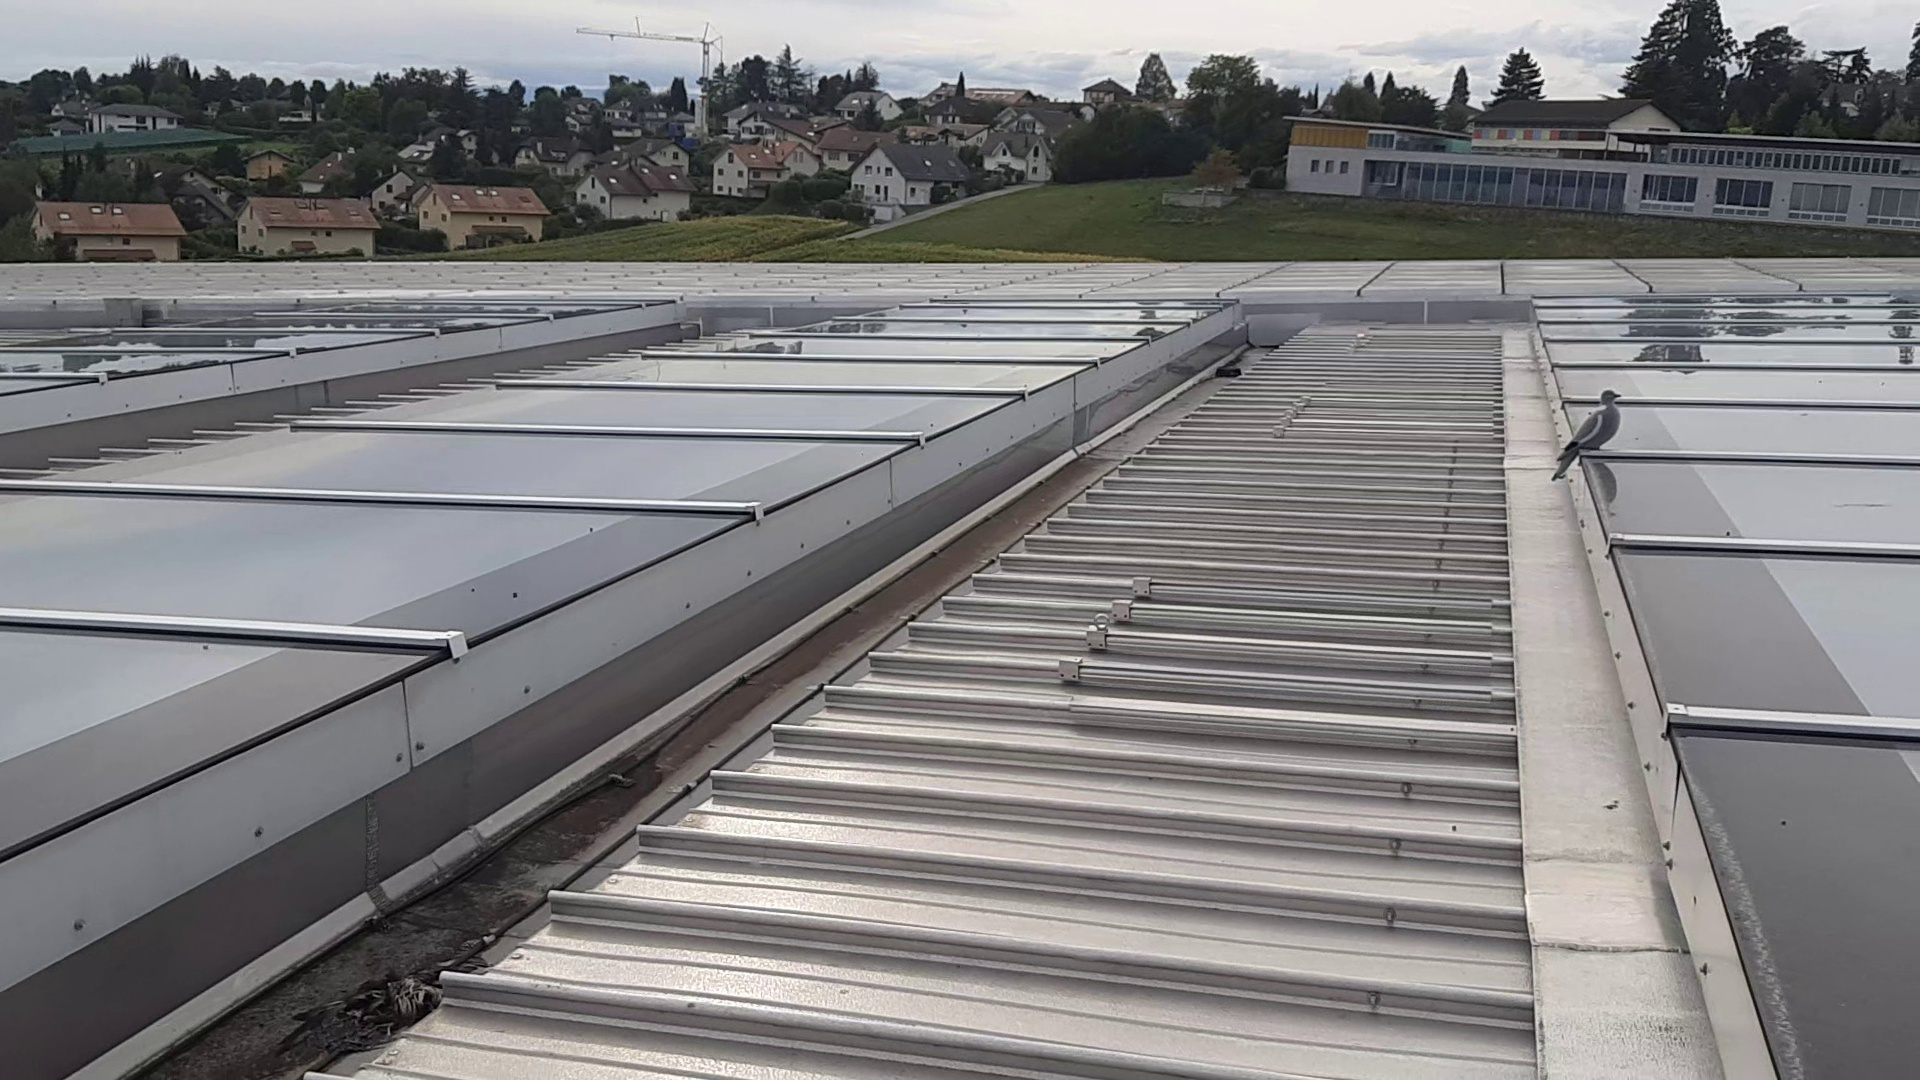Pigeon: (1556, 388, 1629, 473)
